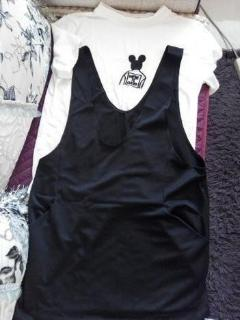short sleeve top: (28, 2, 222, 207)
vest: (12, 45, 210, 319)
